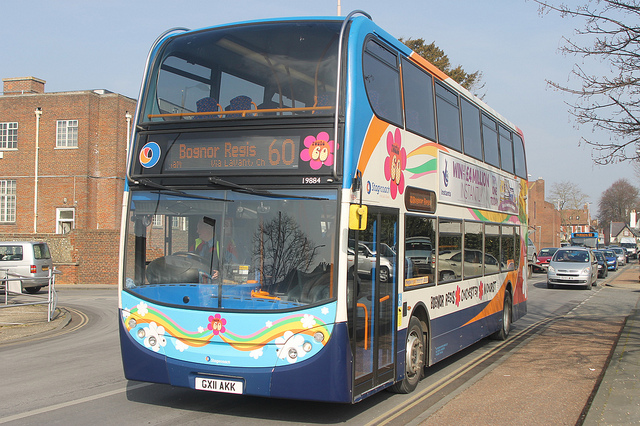Bus: (121, 12, 532, 395)
Car: (4, 239, 55, 290), (551, 248, 600, 293)
